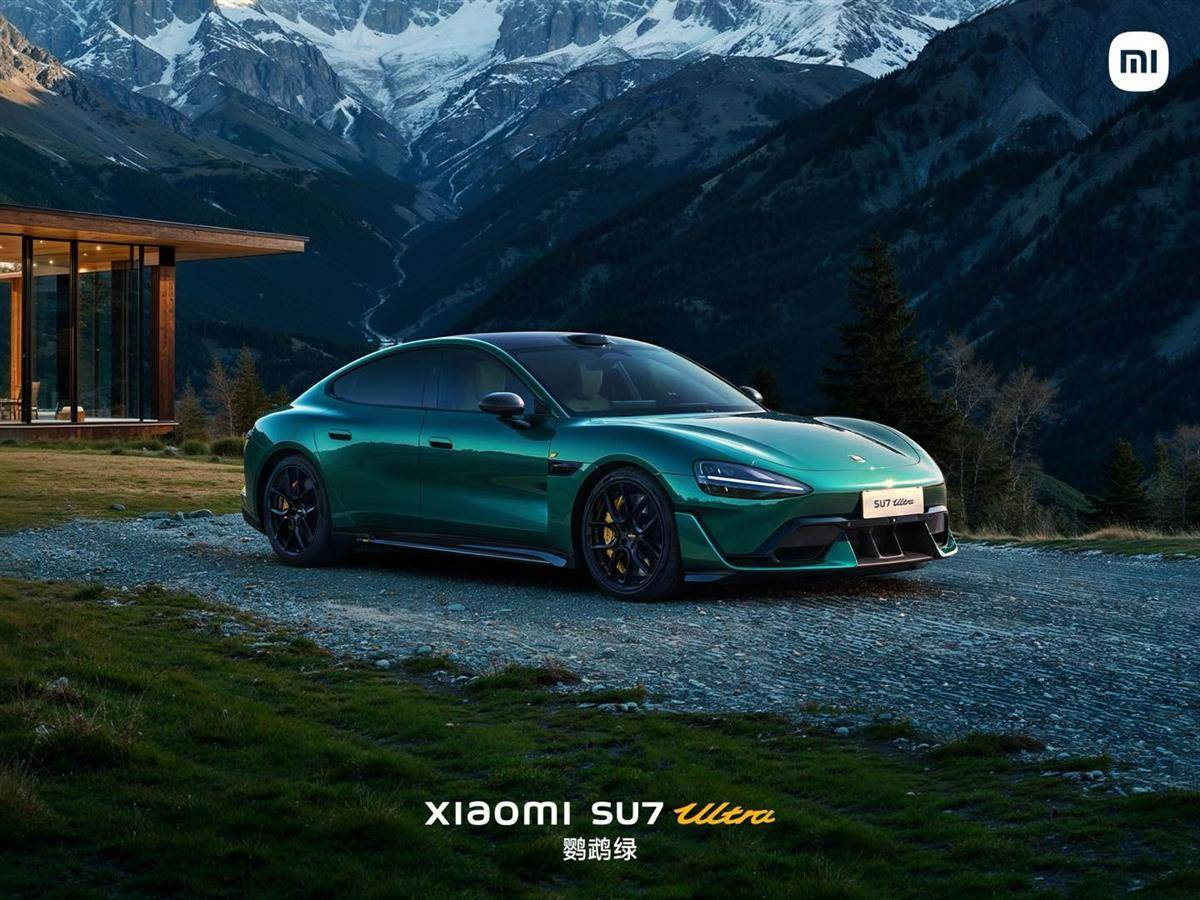su7: (241, 338, 967, 604)
